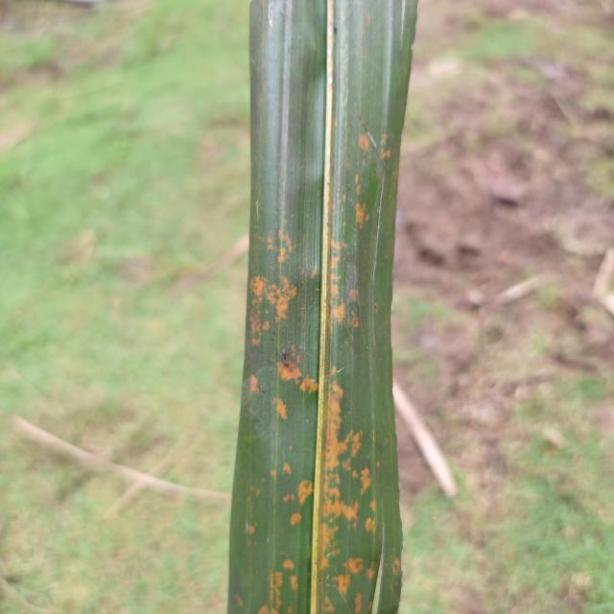Kalium: (230, 0, 419, 614)
